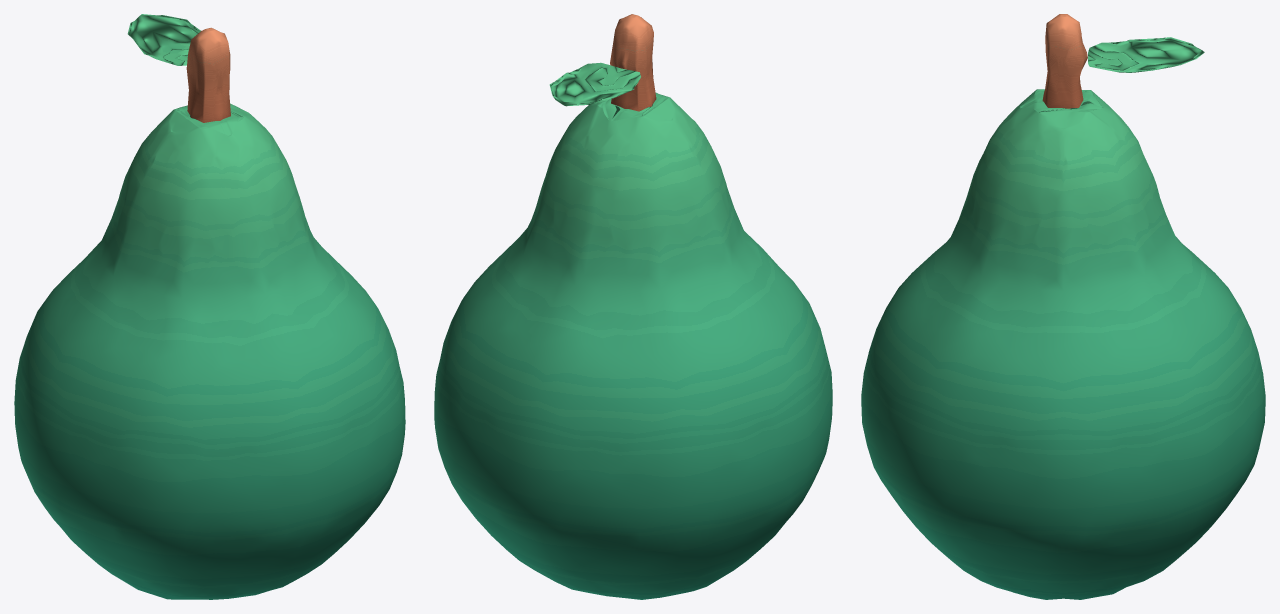
3 renders of one model, left to right at view 1: azimuth 30°, elevation 25°; view 2: azimuth 150°, elevation 25°; view 3: azimuth 270°, elevation 25°, orthographic.
Bounding box in the file's own units: 0.664 × 0.9959 × 0.6635.
Materials: 1 (1 with a texture image).
